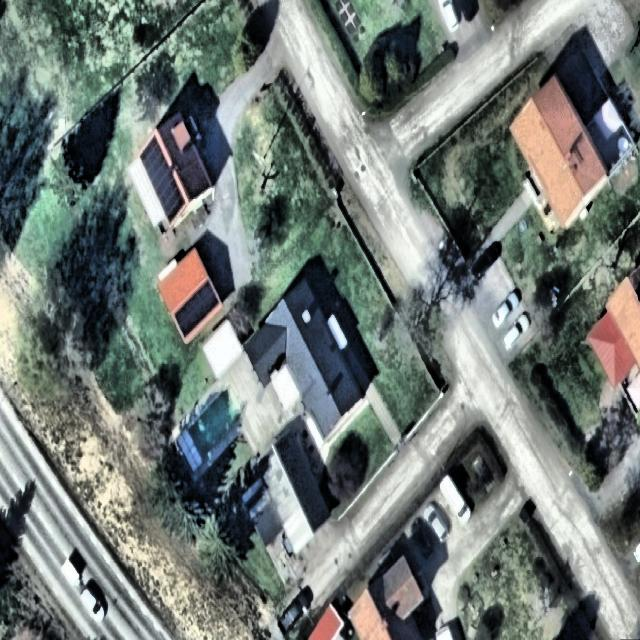roof_pv: (136, 137, 184, 220), (172, 280, 218, 338)
